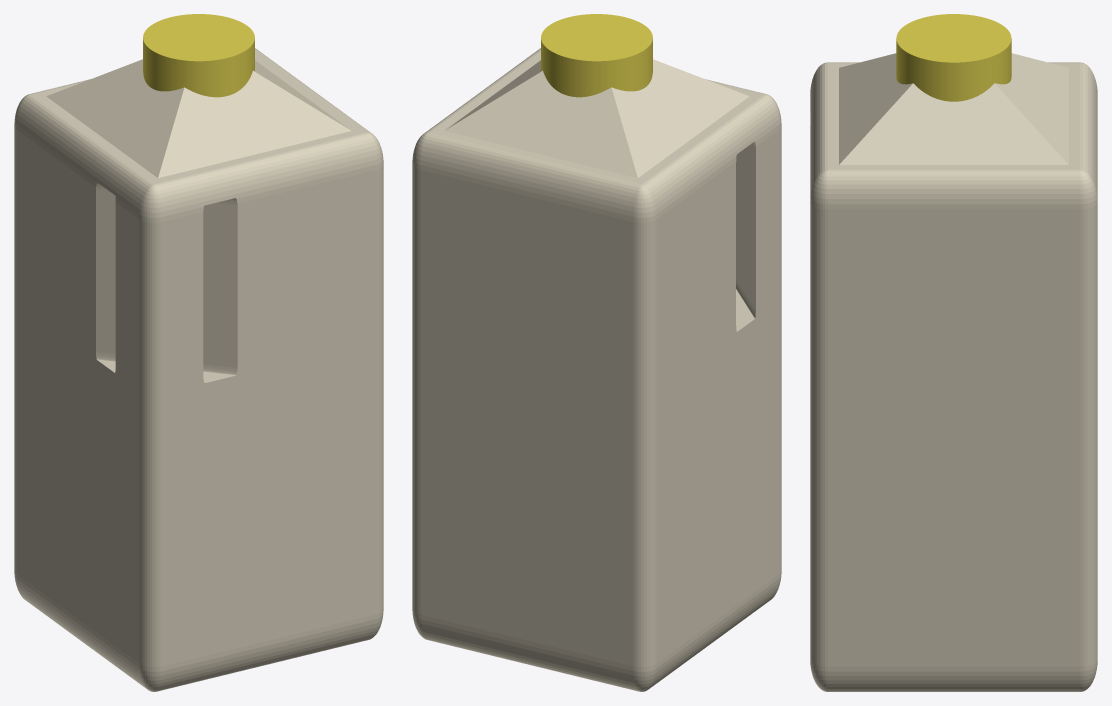
File: banan milk.glb
3 renders of one model, left to right at view 1: azimuth 30°, elevation 25°; view 2: azimuth 150°, elevation 25°; view 3: azimuth 270°, elevation 25°, orthographic. The views are drawn at different scales.
Parts seen in each view (by area): view 1: Mesh_Mesh_head_geo.001_lambert2SG.001; view 2: Mesh_Mesh_head_geo.001_lambert2SG.001; view 3: Mesh_Mesh_head_geo.001_lambert2SG.001.
Part boxes in pixels (x1,y1,x2,y2): Mesh_Mesh_head_geo.001_lambert2SG.001: (14,14,383,691); Mesh_Mesh_head_geo.001_lambert2SG.001: (412,14,781,691); Mesh_Mesh_head_geo.001_lambert2SG.001: (810,14,1097,691).
Size of the model in its own units: 0.01 by 0.023 by 0.01.
